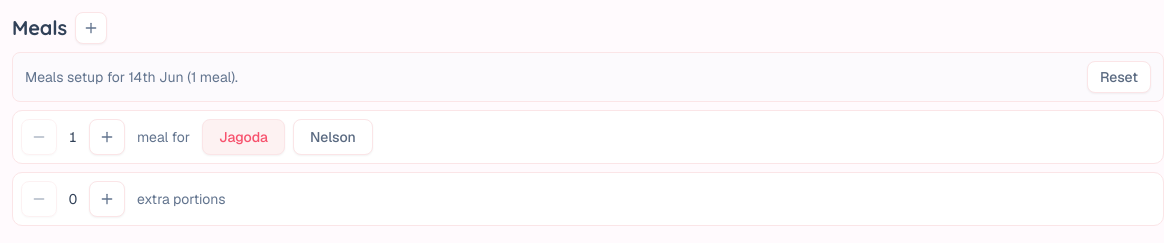
Test case: RecipePageProvider plan cook hydration › clears the banner when the user edits Cooking
Expected: the text "Meals setup for 14th Jun (1 meal)." is shown, [25,67,238,87]
Expected: the heading "Meals" is shown, [12,14,67,42]
What coordinates should you click on to do the following:
click the button named "Increase meals for combination 1"
I would click on:
 (107, 137)
Its box is [89,119,125,155].
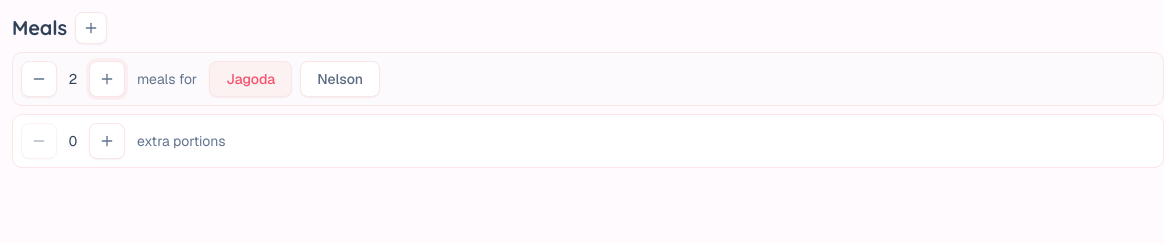
Expected: the text "Meals setup for" is gone
